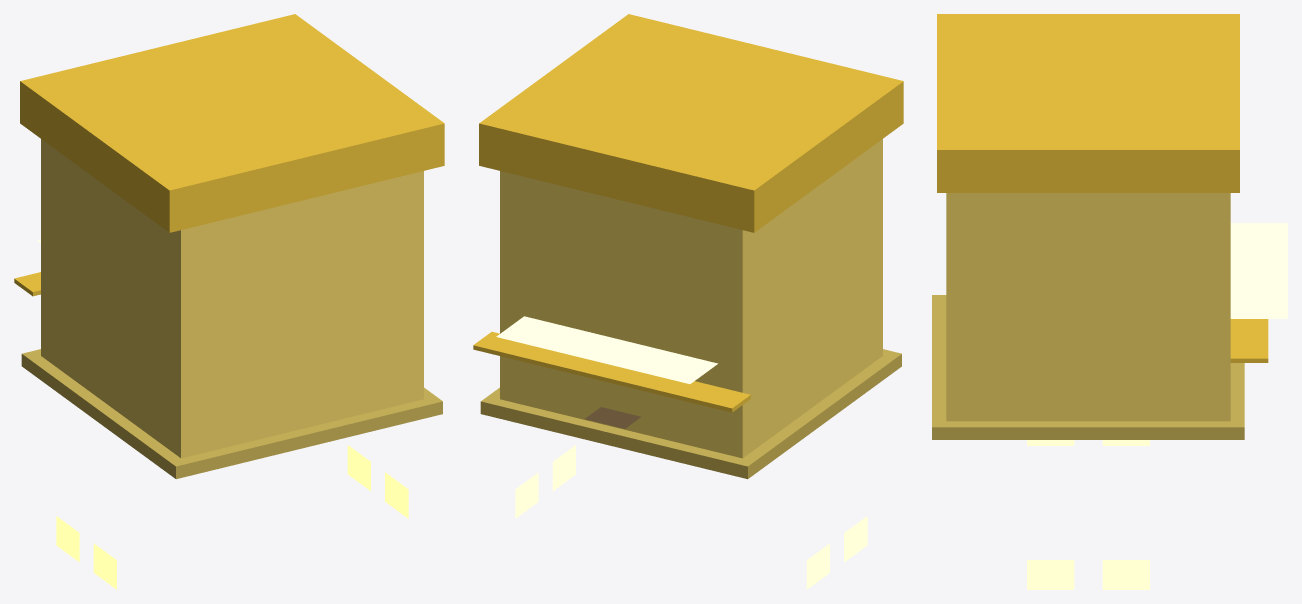
File: bookstore.glb
The picture shows the model from 3 angles, left to right: view 1: azimuth 30°, elevation 25°; view 2: azimuth 150°, elevation 25°; view 3: azimuth 270°, elevation 25°; orthographic projection.
Visible parts, largest first — view 1: bookstore; view 2: bookstore; view 3: bookstore.
Boxes of the visible parts, x1,y1,x2,y2 form: bookstore: [14, 14, 444, 589]; bookstore: [473, 14, 903, 589]; bookstore: [932, 14, 1287, 589].
Bounding box in the file's own units: 3.6 × 5.08 × 3.75.
